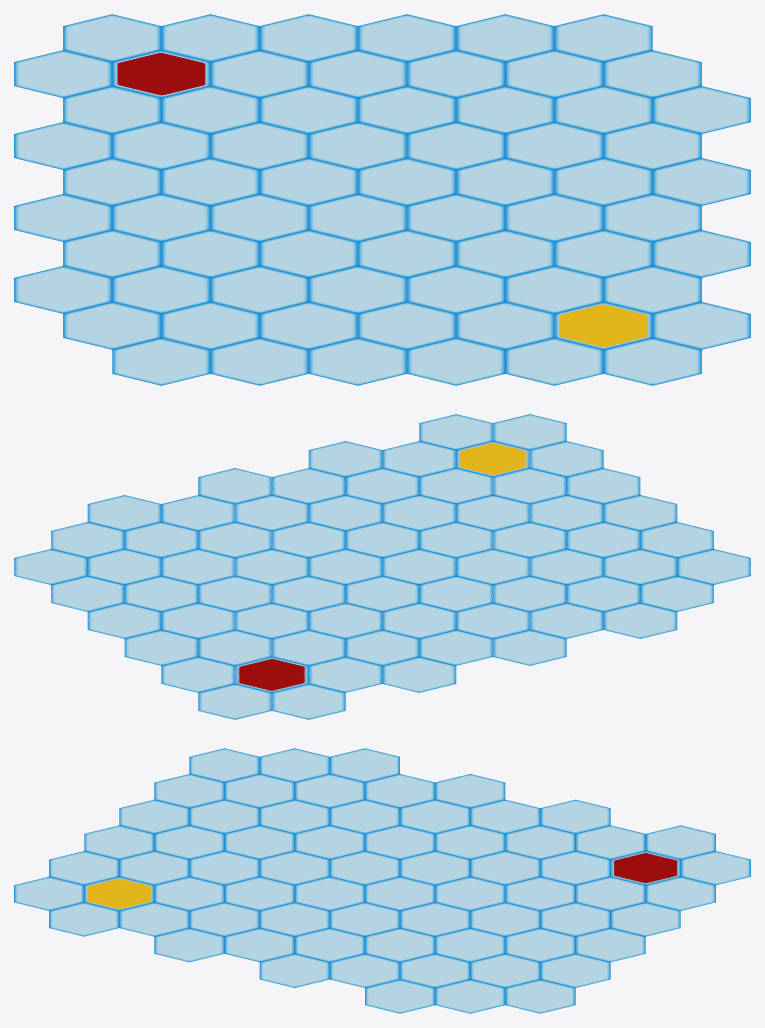
File: Summon Land.unity_68.obj
The picture shows the model from 3 angles, top to bottom: view 1: azimuth 30°, elevation 25°; view 2: azimuth 150°, elevation 25°; view 3: azimuth 270°, elevation 25°; orthographic projection. The views are drawn at different scales.
Visible parts, largest first — view 1: unit, unit_start_point_A, unit_start_point_B, red_tower, yellow_tower; view 2: unit, red_tower, yellow_tower, unit_start_point_A, unit_start_point_B; view 3: unit, red_tower, yellow_tower, unit_start_point_A, unit_start_point_B.
Boxes of the visible parts, left/top/right/bottom form: unit: left=14, top=14, right=750, bottom=385; unit_start_point_A: left=112, top=50, right=210, bottom=97; unit_start_point_B: left=554, top=302, right=652, bottom=349; red_tower: left=505, top=50, right=603, bottom=97; yellow_tower: left=161, top=302, right=259, bottom=349; unit: left=14, top=414, right=750, bottom=719; red_tower: left=87, top=549, right=161, bottom=584; yellow_tower: left=603, top=549, right=677, bottom=584; unit_start_point_A: left=235, top=657, right=308, bottom=692; unit_start_point_B: left=456, top=441, right=529, bottom=476; unit: left=14, top=748, right=750, bottom=1013; red_tower: left=470, top=953, right=540, bottom=987; yellow_tower: left=224, top=774, right=294, bottom=808; unit_start_point_A: left=610, top=851, right=680, bottom=885; unit_start_point_B: left=84, top=876, right=154, bottom=910.
Bounding box in the file's own units: 62 × 0 × 72.75.
Materials: 3 (3 with a texture image).
